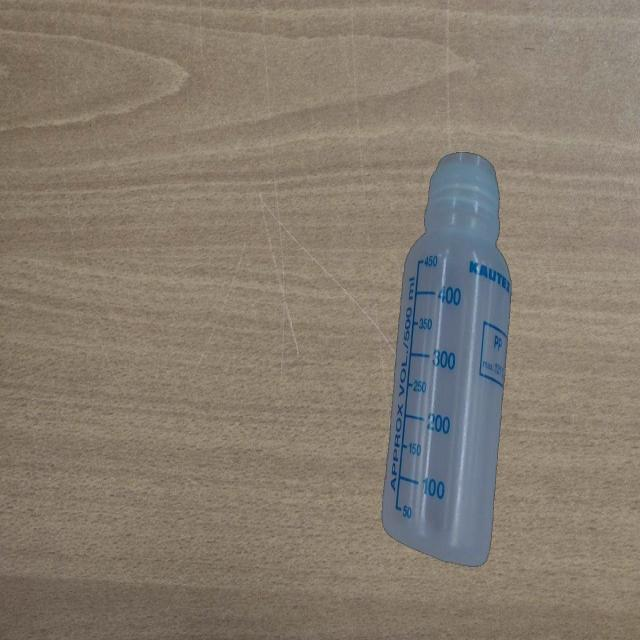bottle: (381, 148, 513, 570)
